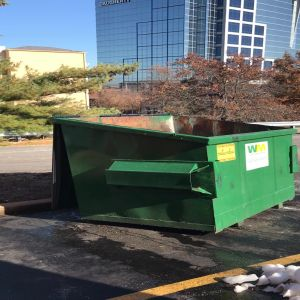Dumpster: (46, 112, 299, 240)
